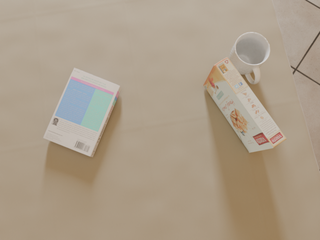book: (43, 68, 121, 157)
box: (204, 57, 286, 153)
cup: (229, 32, 270, 84)
